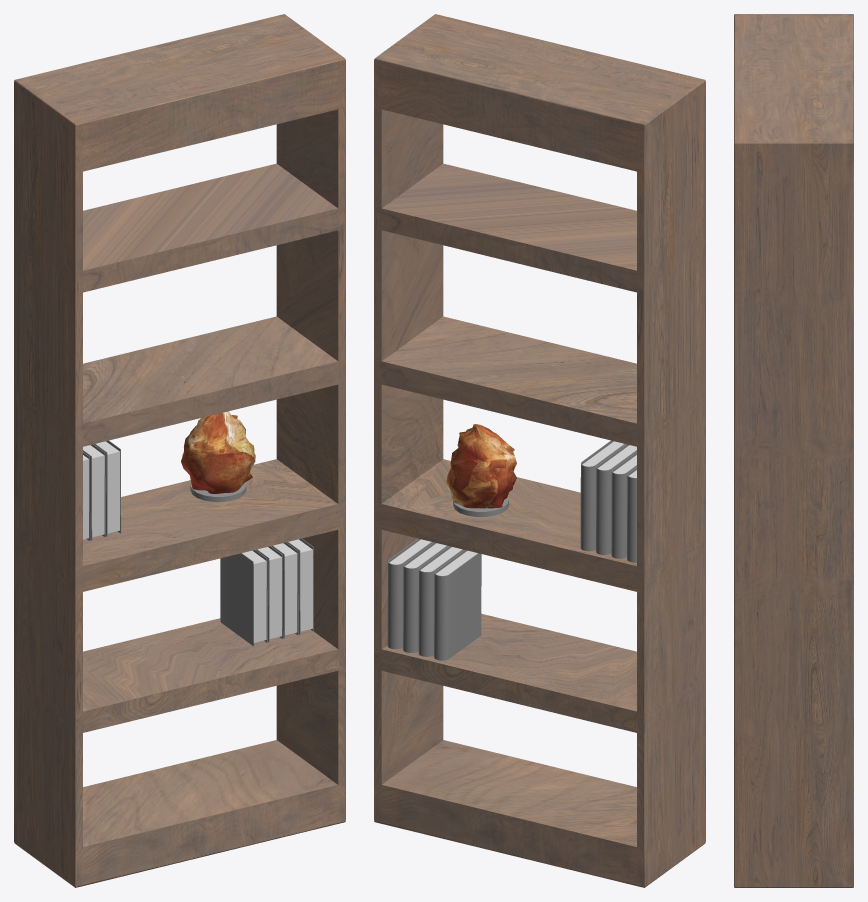
Rendered from étagére.FBX.
The picture shows the model from 3 angles, left to right: view 1: azimuth 30°, elevation 25°; view 2: azimuth 150°, elevation 25°; view 3: azimuth 270°, elevation 25°; orthographic projection. The views are drawn at different scales.
Visible parts, largest first — view 1: étagère, Sphere001, Rectangle007, Rectangle004, Rectangle008, Rectangle002, Rectangle010, Rectangle006, Rectangle012; view 2: étagère, Sphere001, Rectangle007, Rectangle001, Rectangle005, Rectangle009, Rectangle003, Rectangle011, Rectangle013, Rectangle015; view 3: étagère.
Boxes of the visible parts, box(x1,y1,x2,y2) form: étagère: box(14, 14, 345, 887); Sphere001: box(181, 411, 255, 493); Rectangle007: box(220, 550, 267, 646); Rectangle004: box(273, 543, 297, 635); Rectangle008: box(242, 550, 266, 642); Rectangle002: box(288, 539, 312, 631); Rectangle010: box(96, 441, 119, 533); Rectangle006: box(258, 547, 281, 638); Rectangle012: box(83, 445, 104, 537); étagère: box(374, 14, 705, 887); Sphere001: box(446, 424, 516, 508); Rectangle007: box(434, 550, 481, 660); Rectangle001: box(387, 538, 432, 649); Rectangle005: box(418, 546, 463, 656); Rectangle009: box(580, 440, 625, 551); Rectangle003: box(403, 542, 448, 652); Rectangle011: box(596, 444, 636, 554); Rectangle013: box(611, 452, 636, 558); Rectangle015: box(627, 467, 636, 562); étagère: box(734, 14, 853, 887).
Size of the model in its own units: 66.82 by 180 by 26.25.
